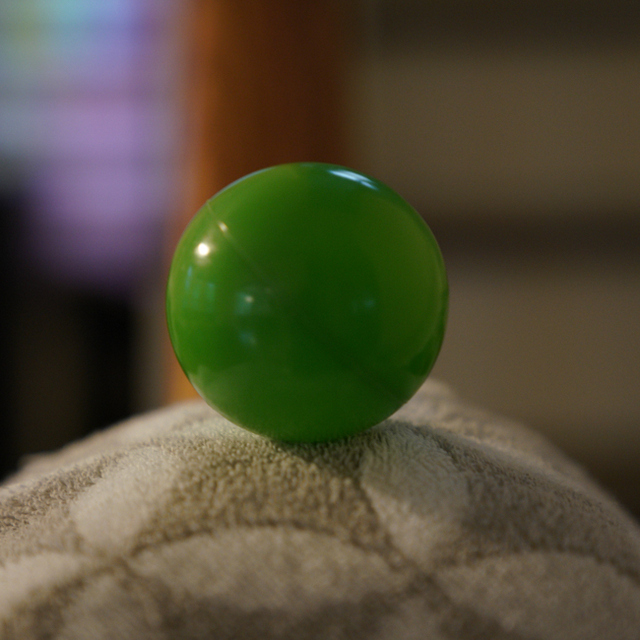Ball: (167, 162, 448, 444)
